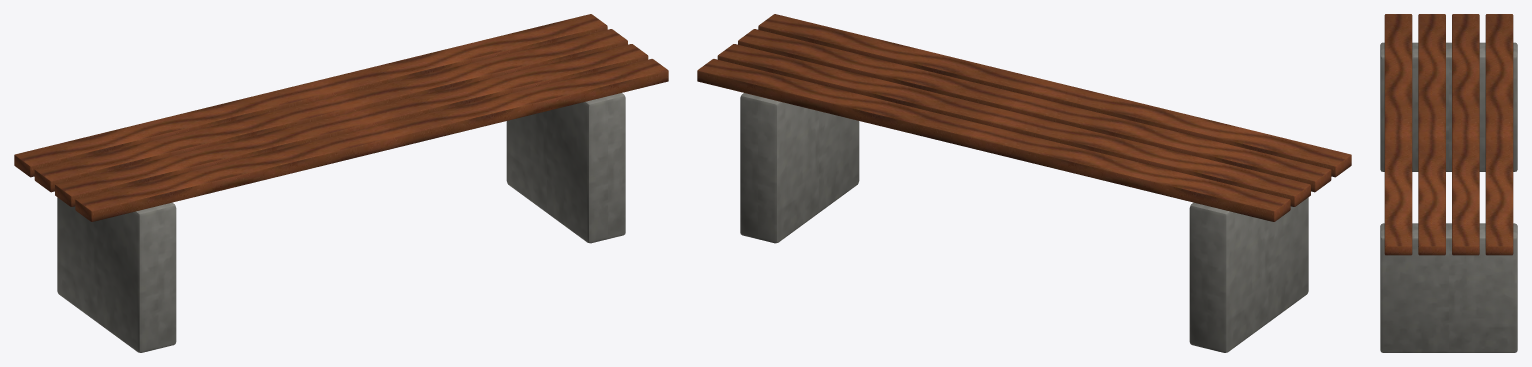
File: PAV-MOB-001.glb
The picture shows the model from 3 angles, left to right: view 1: azimuth 30°, elevation 25°; view 2: azimuth 150°, elevation 25°; view 3: azimuth 270°, elevation 25°; orthographic projection. The views are drawn at different scales.
Visible parts, largest first — view 1: PAV-MOB-001_ripa0, PAV-MOB-001_apoio-7, PAV-MOB-001_apoio7, PAV-MOB-001_ripa3, PAV-MOB-001_ripa2, PAV-MOB-001_ripa1; view 2: PAV-MOB-001_ripa3, PAV-MOB-001_apoio-7, PAV-MOB-001_apoio7, PAV-MOB-001_ripa0, PAV-MOB-001_ripa1, PAV-MOB-001_ripa2; view 3: PAV-MOB-001_apoio7, PAV-MOB-001_ripa0, PAV-MOB-001_ripa3, PAV-MOB-001_ripa1, PAV-MOB-001_ripa2, PAV-MOB-001_apoio-7.
Part boxes in pixels (x1,y1,x2,y2): PAV-MOB-001_ripa0: (75,59,668,221); PAV-MOB-001_apoio-7: (57,197,176,352); PAV-MOB-001_apoio7: (506,93,625,243); PAV-MOB-001_ripa3: (14,14,607,177); PAV-MOB-001_ripa2: (34,29,627,192); PAV-MOB-001_ripa1: (55,44,648,206); PAV-MOB-001_ripa3: (697,59,1290,221); PAV-MOB-001_apoio-7: (1189,197,1308,352); PAV-MOB-001_apoio7: (740,93,859,243); PAV-MOB-001_ripa0: (758,14,1351,177); PAV-MOB-001_ripa1: (738,29,1331,192); PAV-MOB-001_ripa2: (717,44,1310,206); PAV-MOB-001_apoio7: (1380,223,1517,352); PAV-MOB-001_ripa0: (1384,14,1412,255); PAV-MOB-001_ripa3: (1485,14,1513,255); PAV-MOB-001_ripa1: (1418,14,1445,255); PAV-MOB-001_ripa2: (1452,14,1479,255); PAV-MOB-001_apoio-7: (1380,42,1517,171).
Size of the model in its own units: 1.8 by 0.455 by 0.45.
2 materials, 2 textured.
